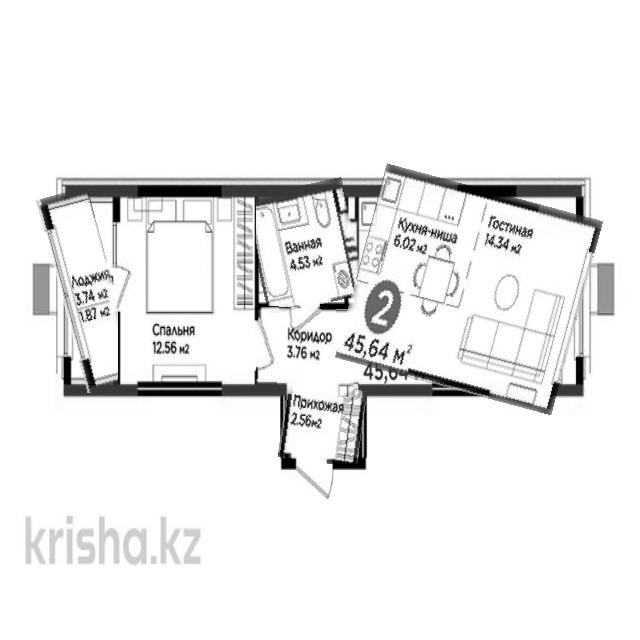balcony: (49, 189, 126, 391)
bathroom: (250, 182, 361, 310)
hallway: (255, 307, 357, 396), (281, 382, 365, 465)
living_room: (118, 191, 256, 390)
studio: (347, 176, 592, 403)
